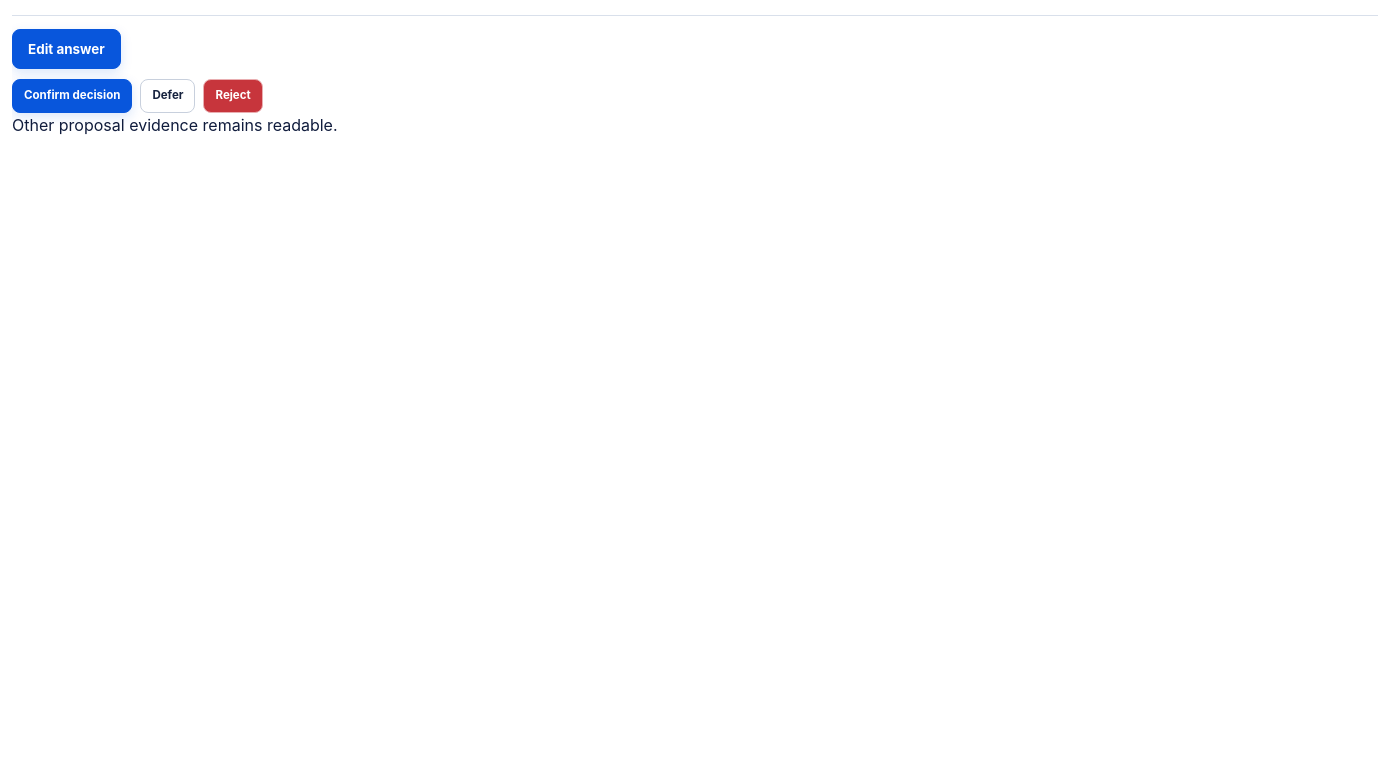
Test case: ClarificationDecisionControls › saves a changed Revised answer sequentially through reopen then revise
Click the button "Edit answer" at point(66, 49), box [12,29,121,69]
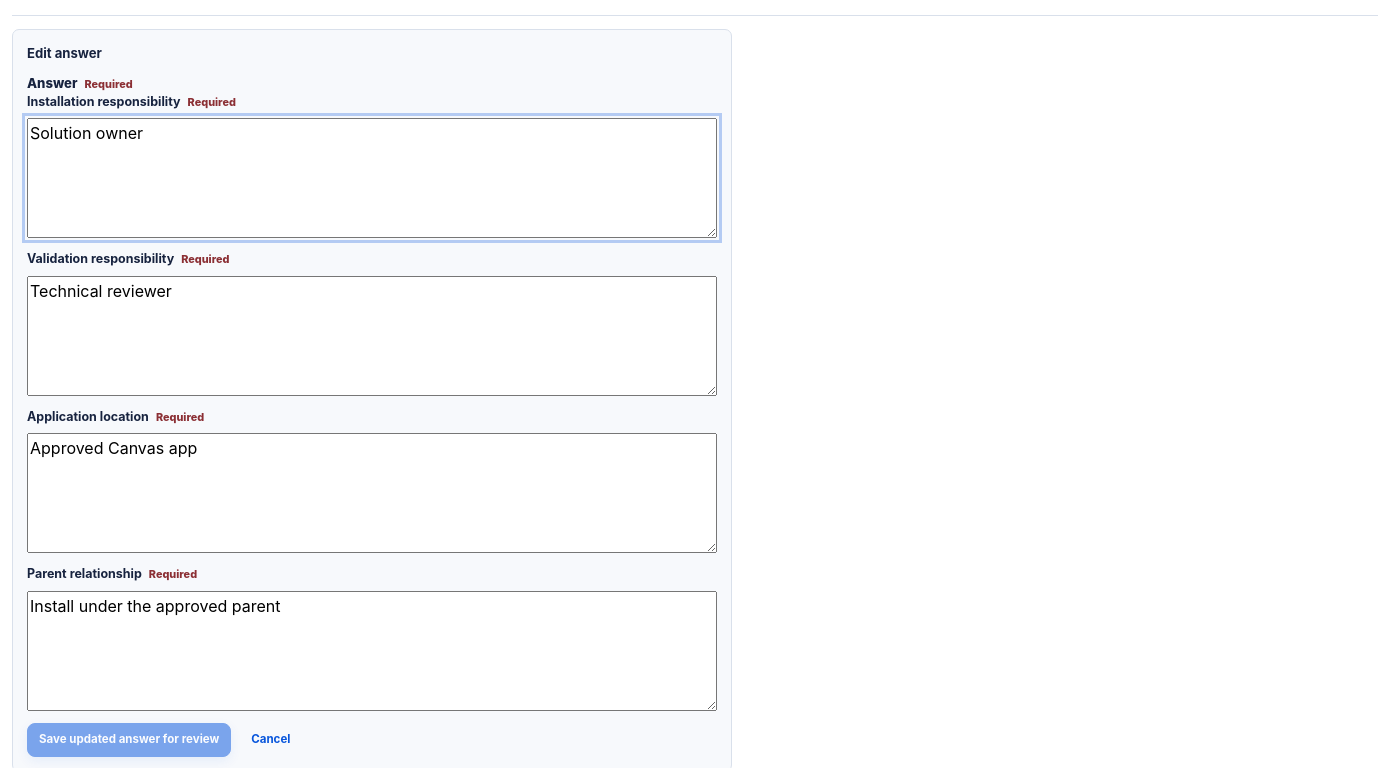
Replace the text in the text box labelled "Installation responsibility Required" with "Updated owner" at point(372, 178), box [27,118,717,238]
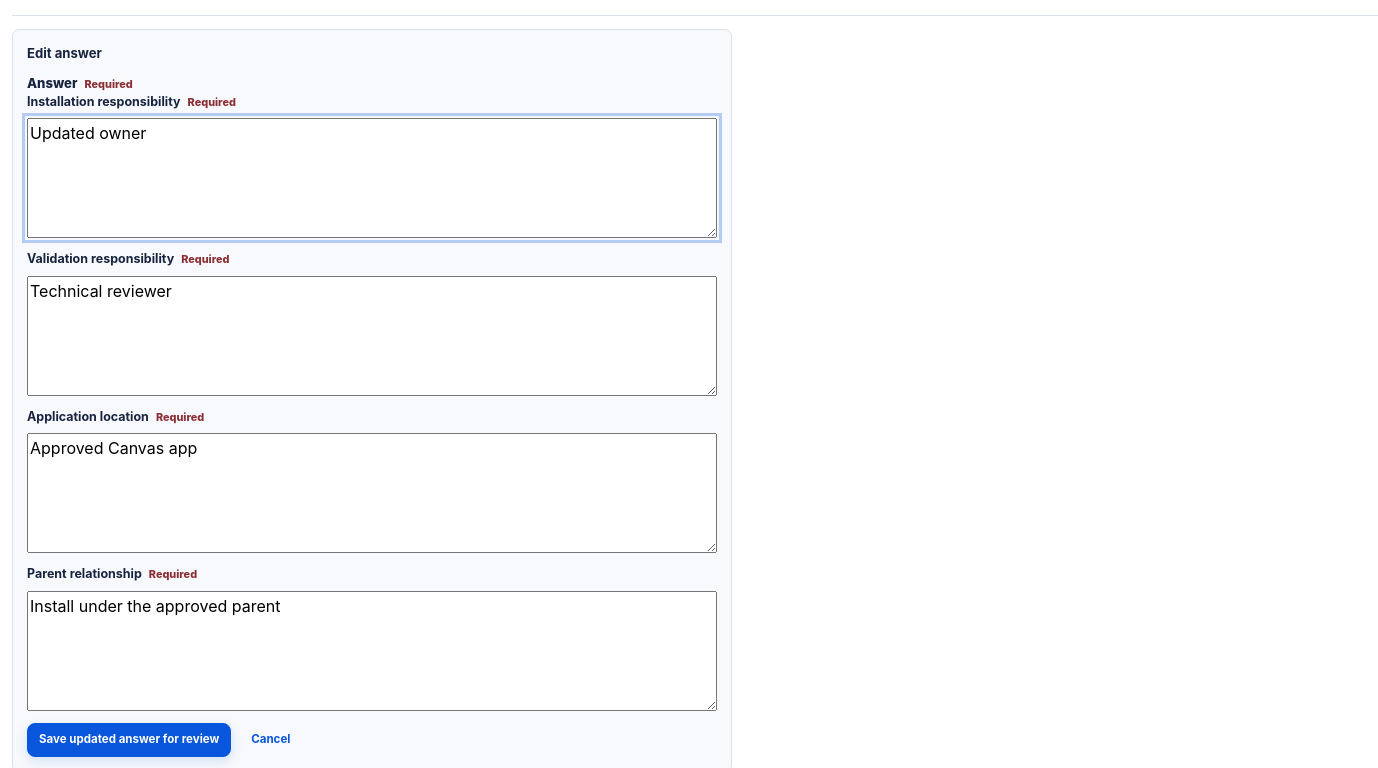
Click the button "Save updated answer for review" at point(129, 740), box [27,723,231,757]
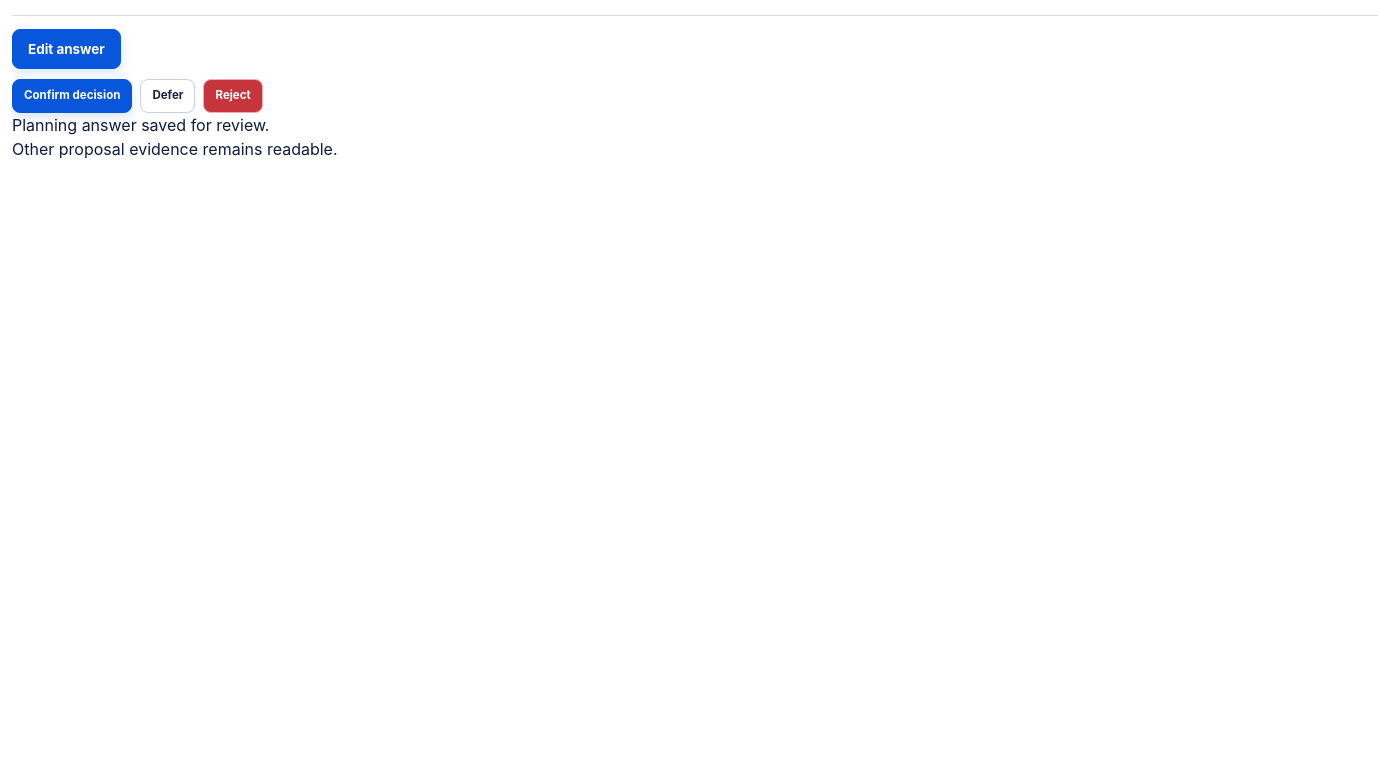
Expected: the message reads "Planning answer saved for review.", [12,115,269,135]
